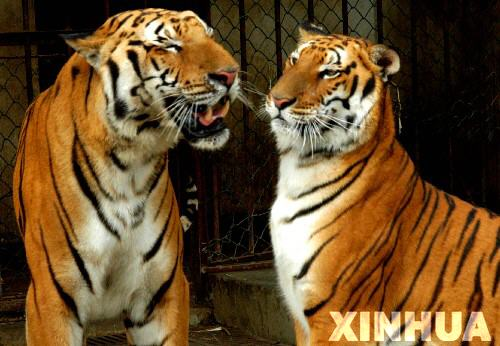Tigre: (271, 28, 492, 339), (15, 16, 231, 330)
